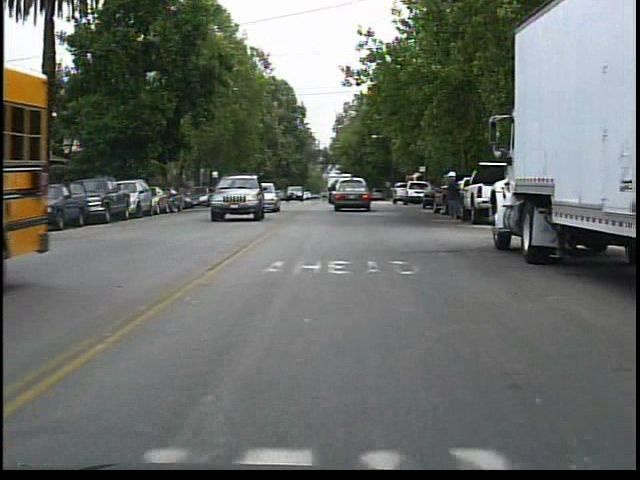person: (440, 169, 468, 225)
